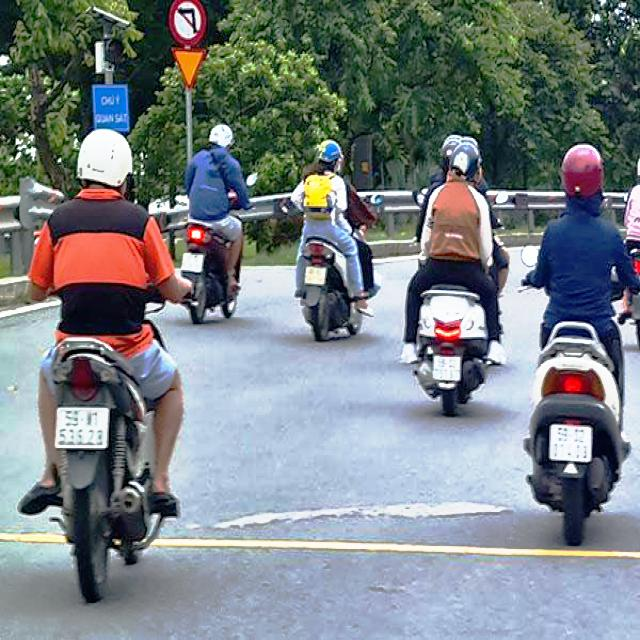license_plate: (55, 409, 110, 449)
